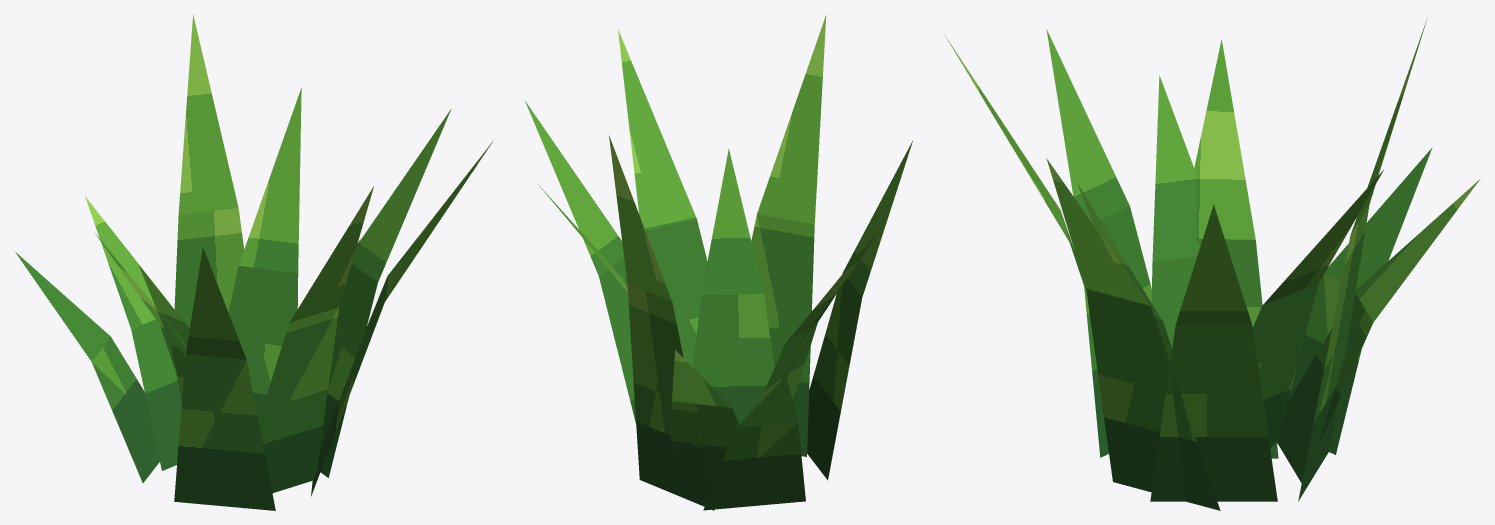
The model's file is grass_tuft_b.glb.
The picture shows the model from 3 angles, left to right: view 1: azimuth 30°, elevation 25°; view 2: azimuth 150°, elevation 25°; view 3: azimuth 270°, elevation 25°; orthographic projection. The views are drawn at different scales.
Parts seen in each view (by area): view 1: grass_tuft_b; view 2: grass_tuft_b; view 3: grass_tuft_b.
Part boxes in pixels (left/top/right/bottom): grass_tuft_b: left=15, top=14, right=493, bottom=510; grass_tuft_b: left=525, top=15, right=912, bottom=510; grass_tuft_b: left=944, top=18, right=1480, bottom=510.
Bounding box in the file's own units: 0.2763 × 0.2872 × 0.2956.
Materials: 1 (1 with a texture image).
